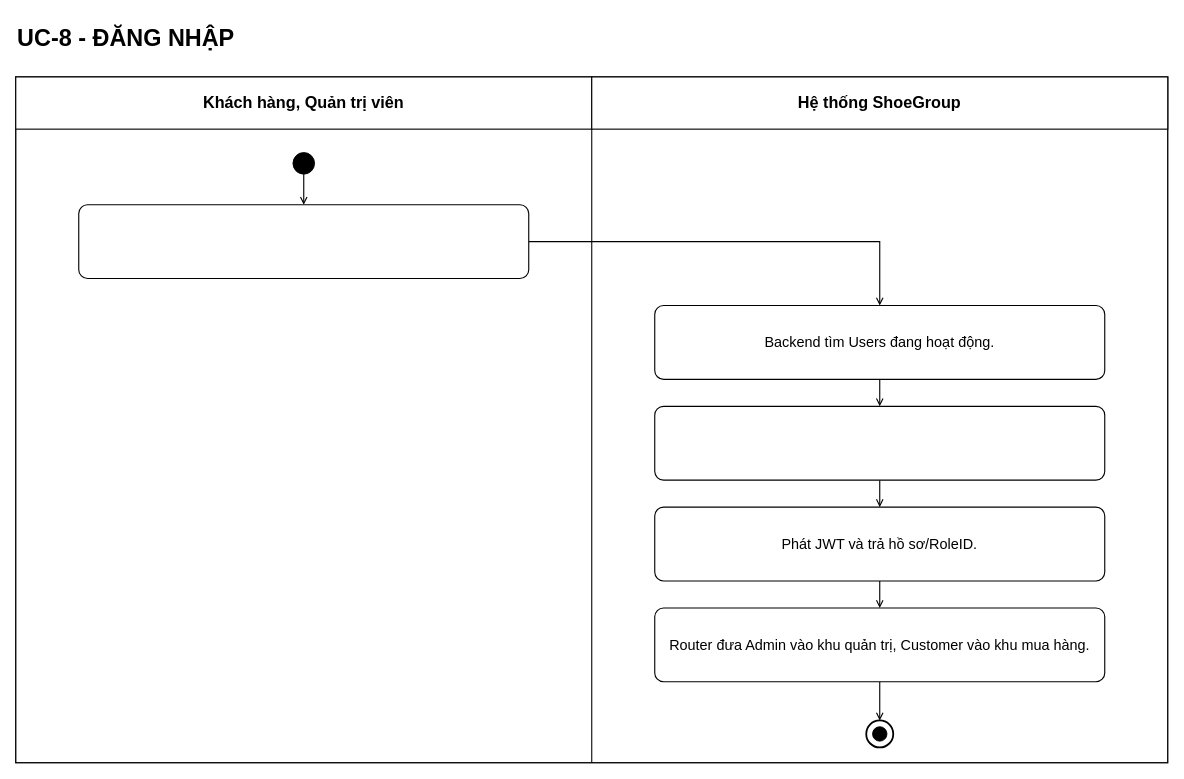
The diagram is 1184 pixels wide and 779 high, and some of its shapes have lost their labels. Here are the shapes that lost their labels. From the top down, the centre of each, then its label:
At point 303,241: "Nhập email và mật khẩu.".
At point 879,442: "Kiểm tra mật khẩu đã băm.".
